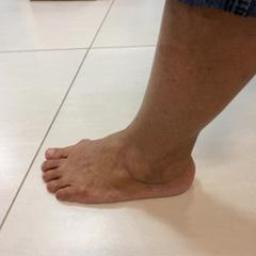Lateral View -Left Foot-: (26, 101, 211, 221)
